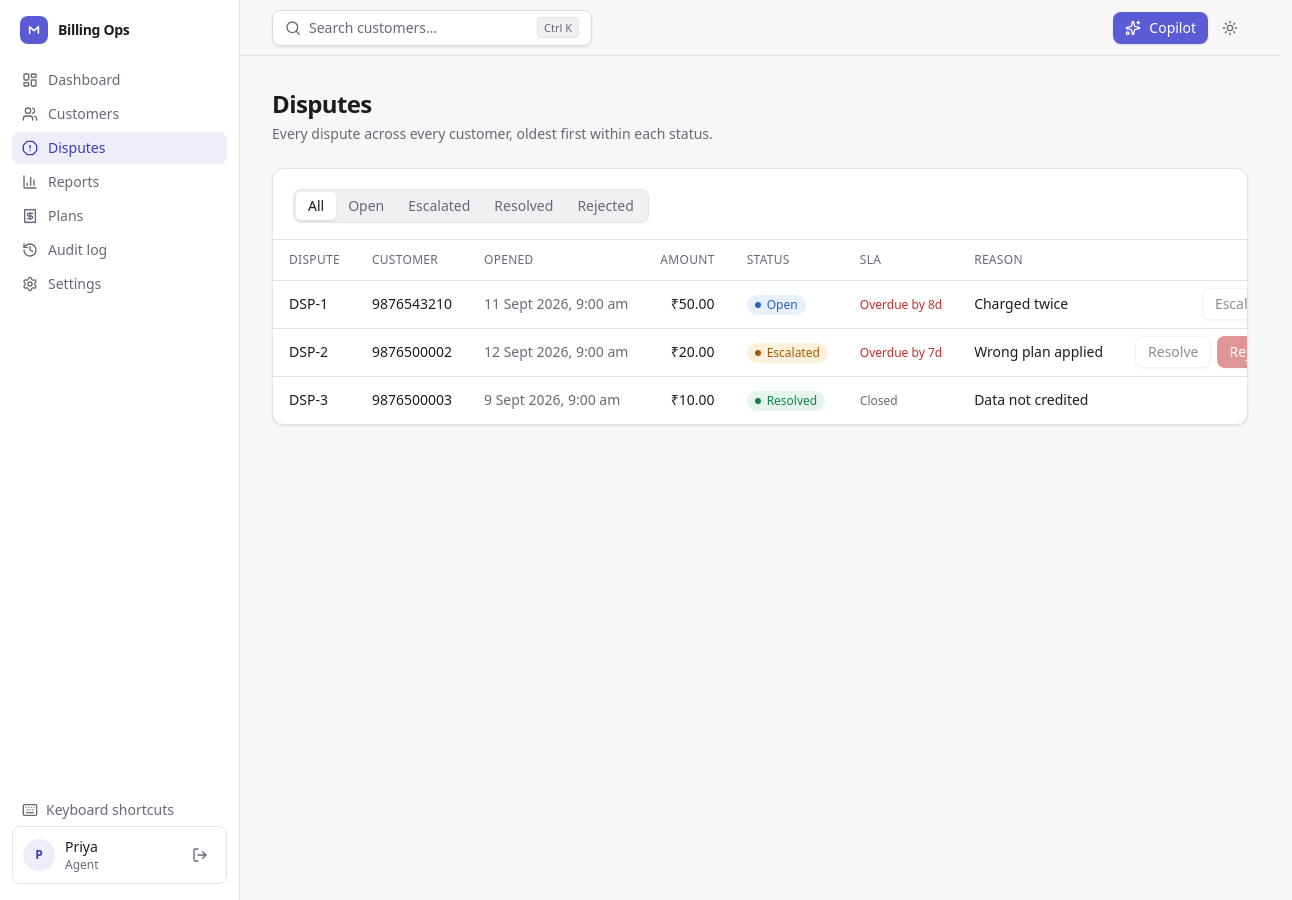
Scenario: dispute workspace › lists disputes across customers and filters by status
The width and height of the screenshot is (1292, 900).
Check: the table with test id "disputes-workspace-table" is shown, box [273,240,1247,424]
Check: the row with test id "workspace-dispute-DSP-1" is shown, box [273,280,1247,328]
Click the radio button with test id "dispute-status-filter-escalated": x=439, y=206 [396,192,482,220]
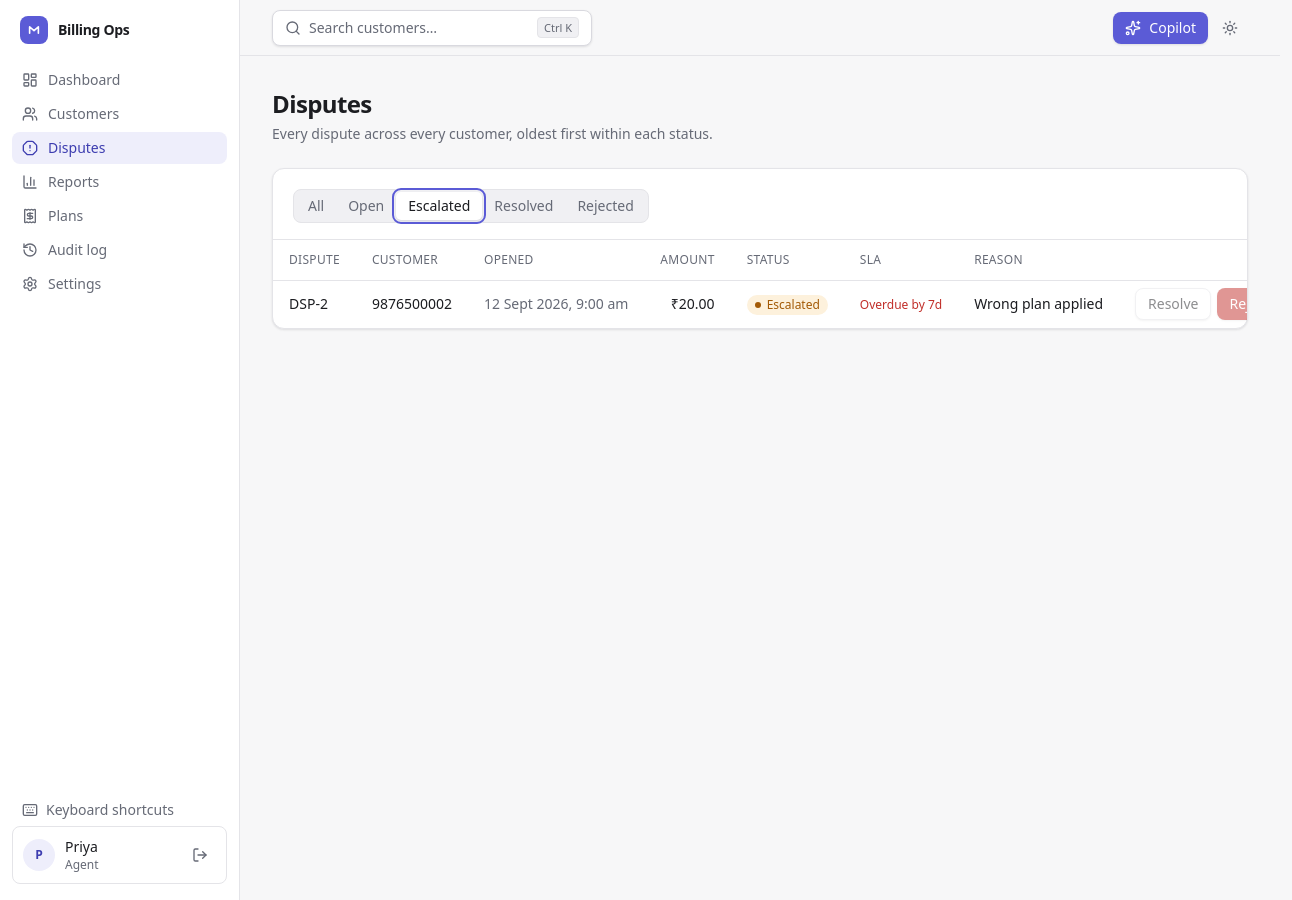
Check: the row with test id "workspace-dispute-DSP-2" is shown, box [273,280,1247,328]
Check: the row with test id "workspace-dispute-DSP-1" is gone
